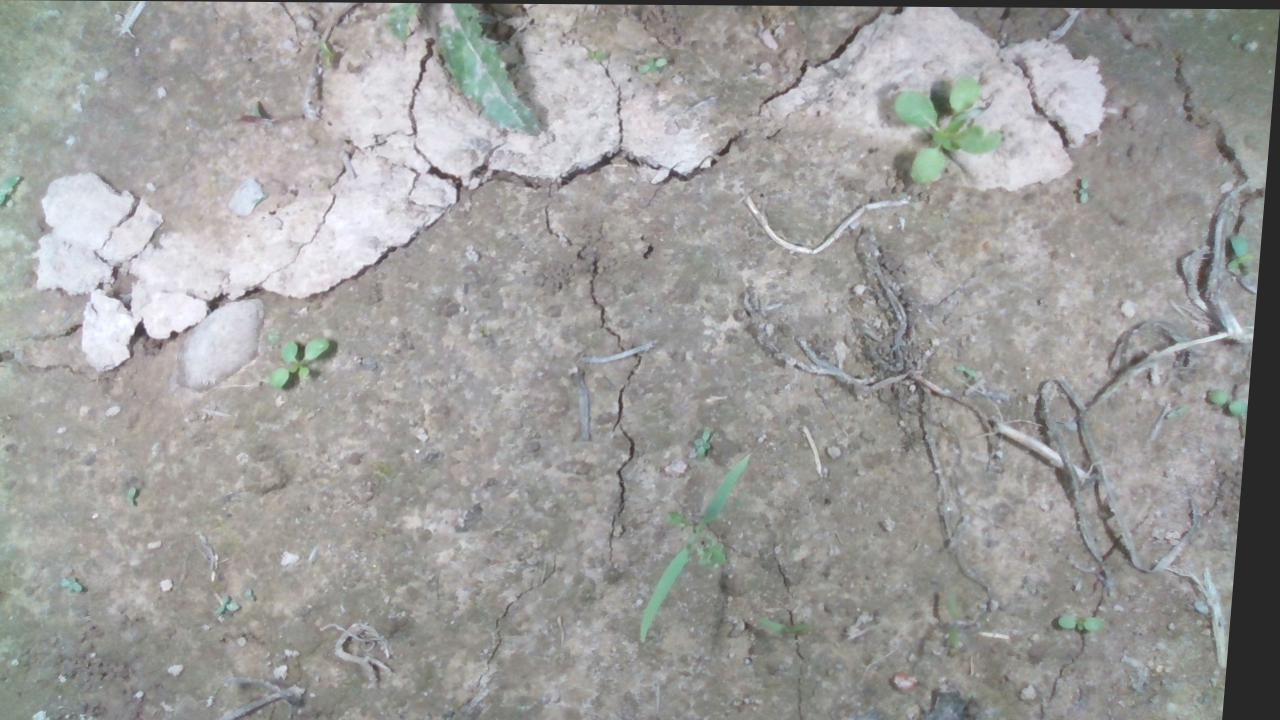weed: (271, 335, 349, 388), (1067, 598, 1118, 636), (1208, 378, 1251, 419), (632, 47, 667, 79), (1072, 169, 1103, 205), (698, 419, 718, 457)
